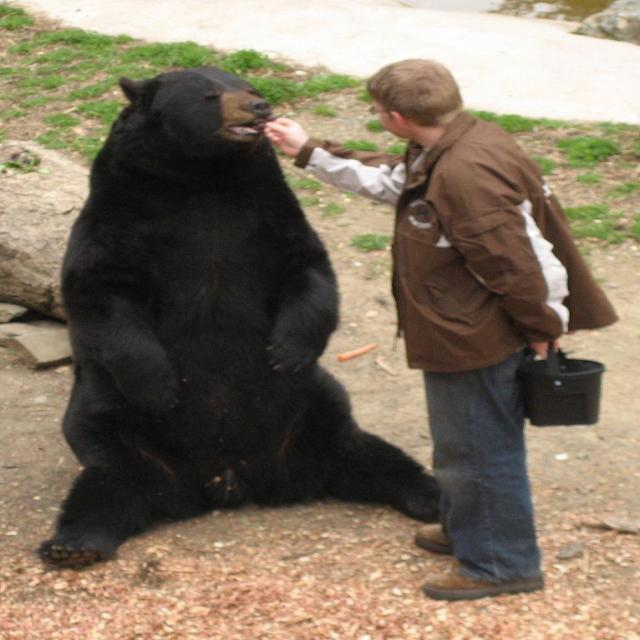Bear: (34, 65, 441, 570)
